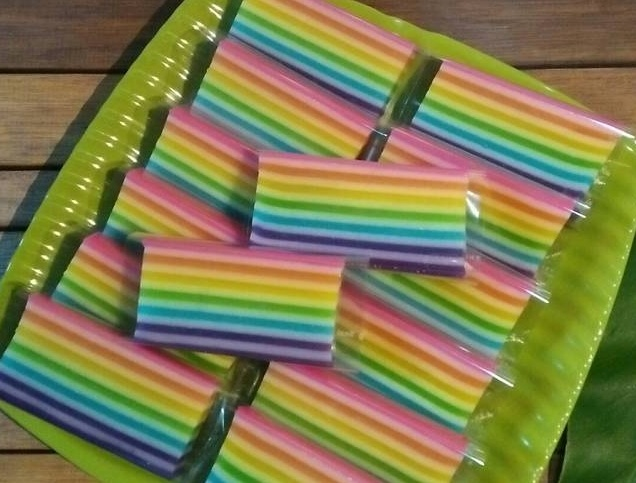kue_lapis_pelangi: (2, 295, 217, 479), (412, 57, 617, 203), (135, 240, 342, 368), (256, 156, 469, 279)
